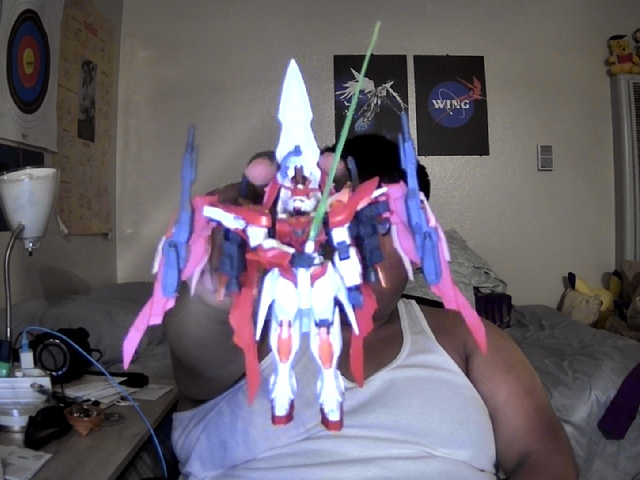Honoo: (123, 59, 488, 432)
